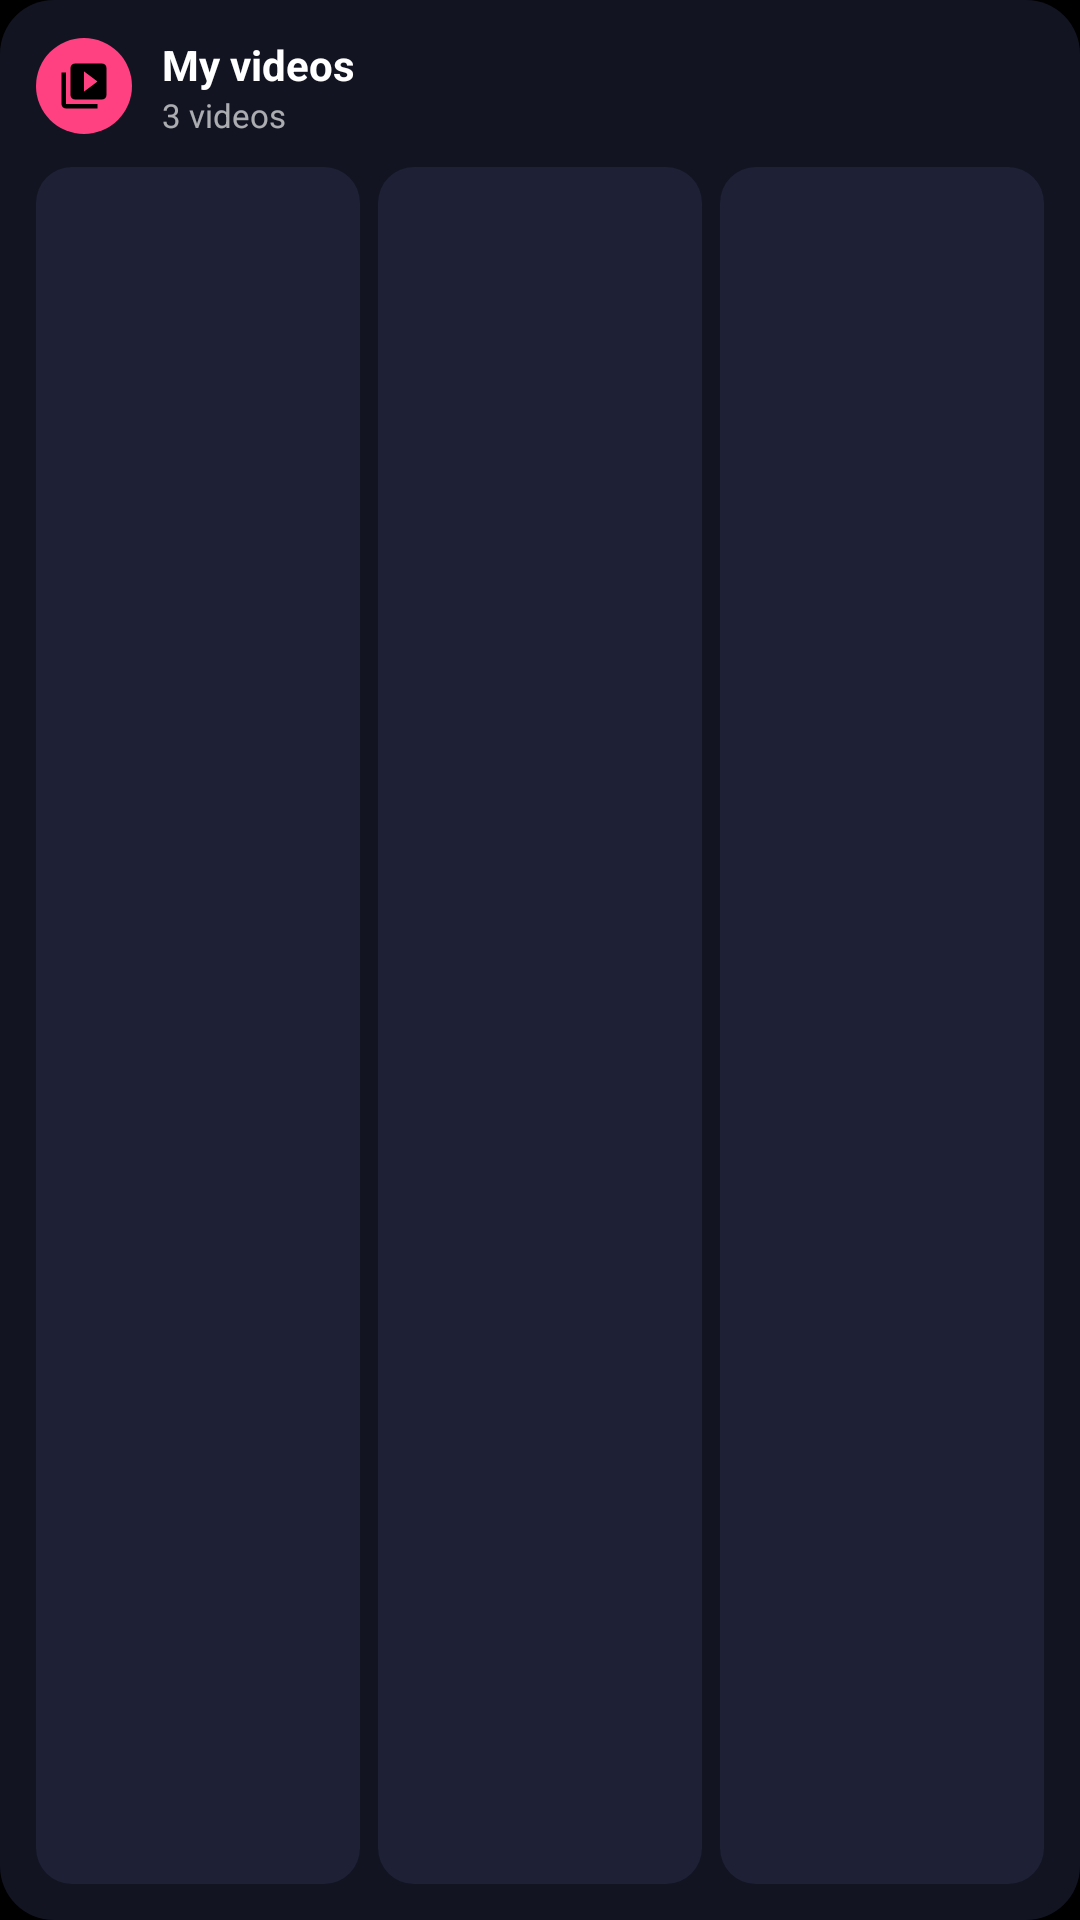

Named icons in this screenshot (1080w x 1920h) and their centers, (x=x, y=y):
widget videos: (x=84, y=86)
